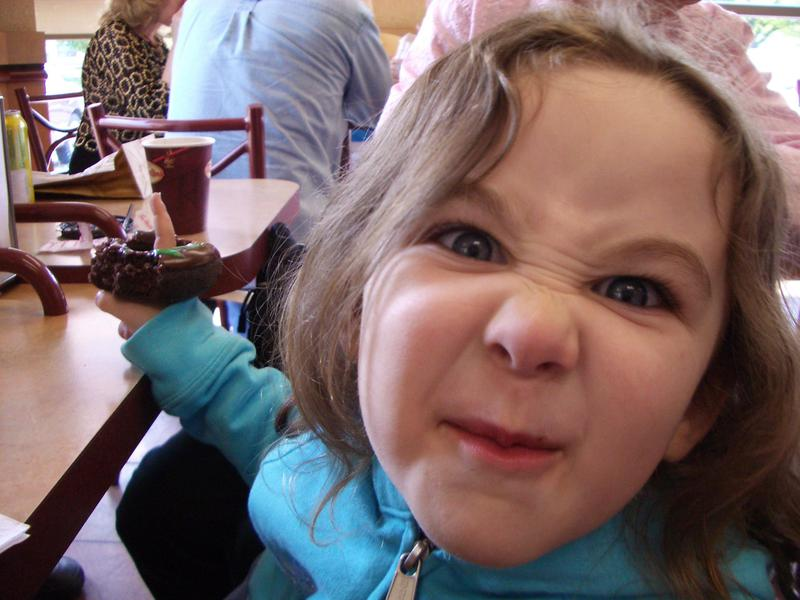person: (192, 17, 800, 599)
